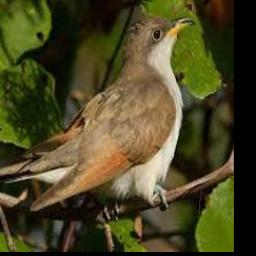Cuckoo: (6, 17, 195, 210)
